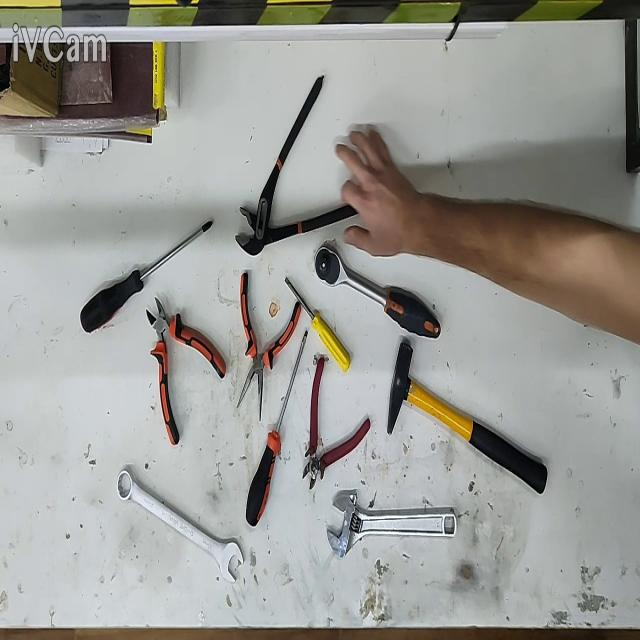Screwdriver: (79, 221, 212, 331), (244, 329, 308, 524), (285, 276, 350, 371)
